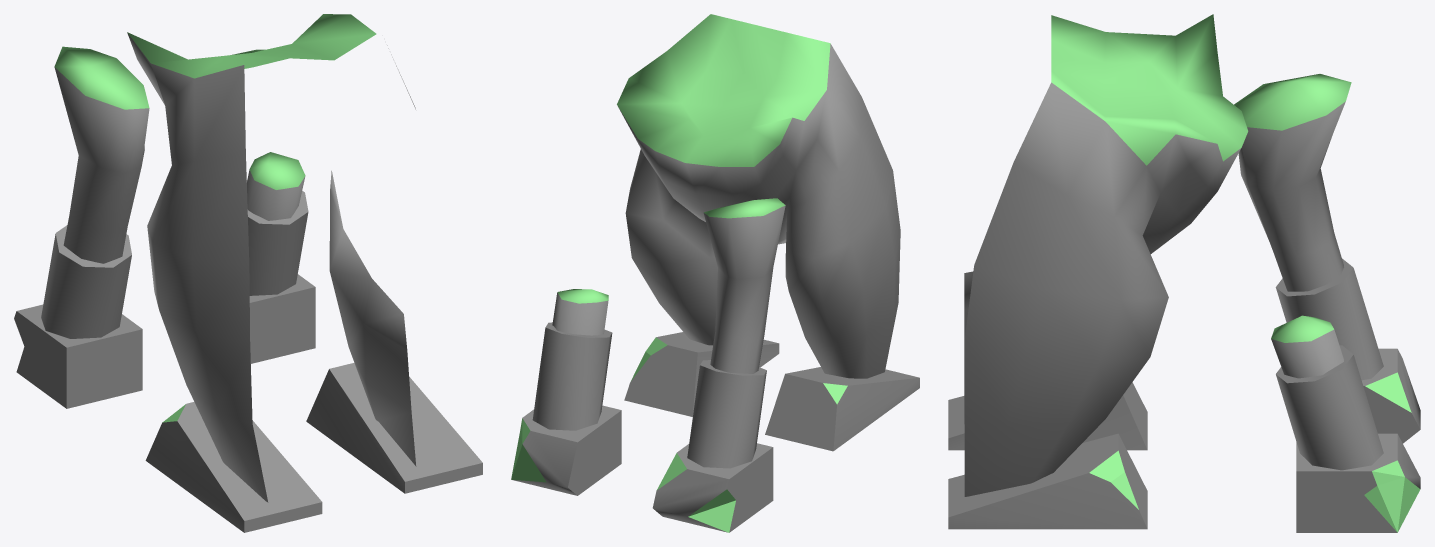
Rendered from SSQ_statue02_b03.gltf.
The picture shows the model from 3 angles, left to right: view 1: azimuth 30°, elevation 25°; view 2: azimuth 150°, elevation 25°; view 3: azimuth 270°, elevation 25°; orthographic projection. The views are drawn at different scales.
Parts seen in each view (by area): view 1: SSQ_statue02_b03; view 2: SSQ_statue02_b03; view 3: SSQ_statue02_b03.
Part boxes in pixels (left/top/right/bottom): SSQ_statue02_b03: left=14, top=14, right=482, bottom=532; SSQ_statue02_b03: left=511, top=14, right=919, bottom=532; SSQ_statue02_b03: left=948, top=14, right=1420, bottom=532.
Size of the model in its own units: 0.4205 by 0.6498 by 0.6572.
